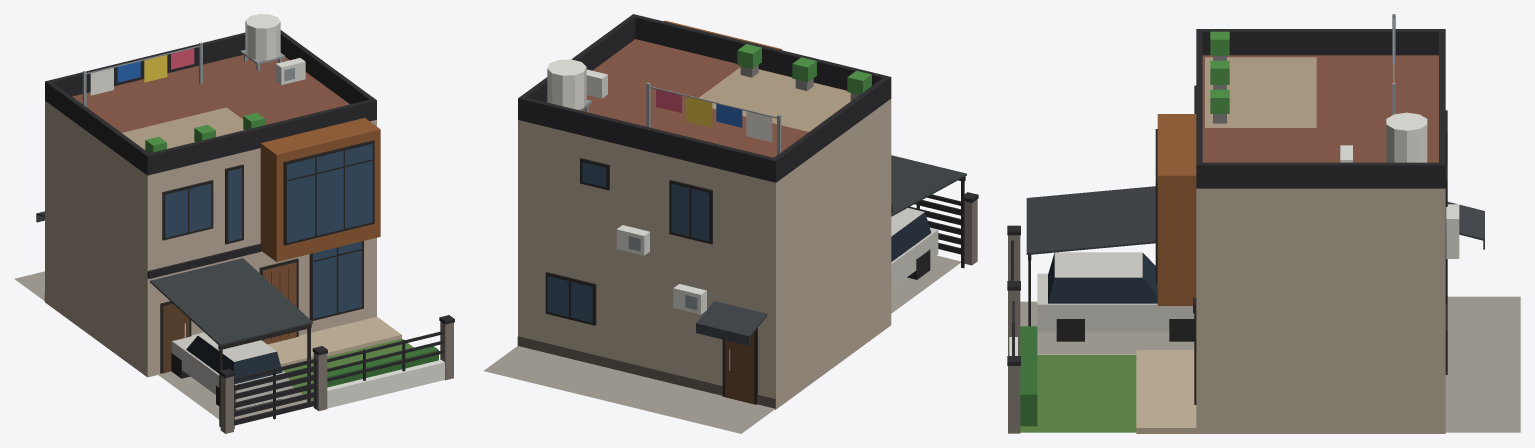
File: rumah2_10.glb
3 views of the same model, side by side, from view 1: azimuth 30°, elevation 25°; view 2: azimuth 150°, elevation 25°; view 3: azimuth 270°, elevation 25° (orthographic). The views are drawn at different scales.
Parts seen in each view (by area): view 1: rumah2_10; view 2: rumah2_10; view 3: rumah2_10.
Boxes of the visible parts, left/top/right/bottom form: rumah2_10: left=14, top=14, right=454, bottom=433; rumah2_10: left=484, top=14, right=978, bottom=433; rumah2_10: left=1007, top=14, right=1520, bottom=433.
Size of the model in its own units: 7.5 by 7.6 by 11.95.
